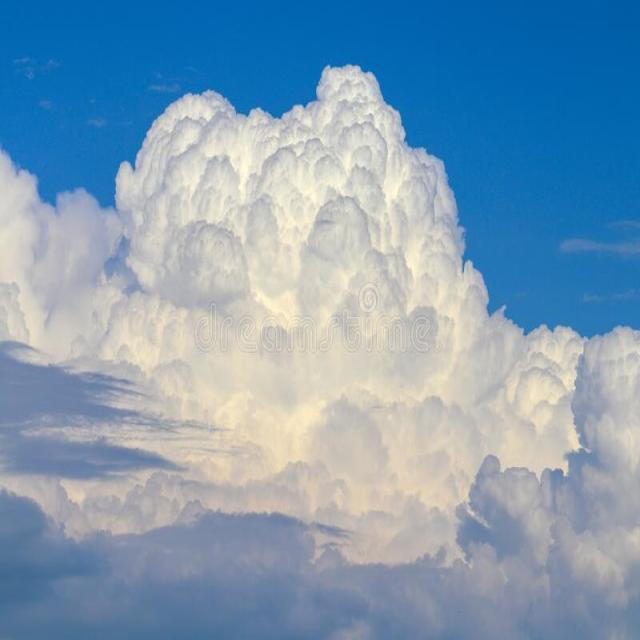cumulonimbus: (32, 81, 604, 606)
